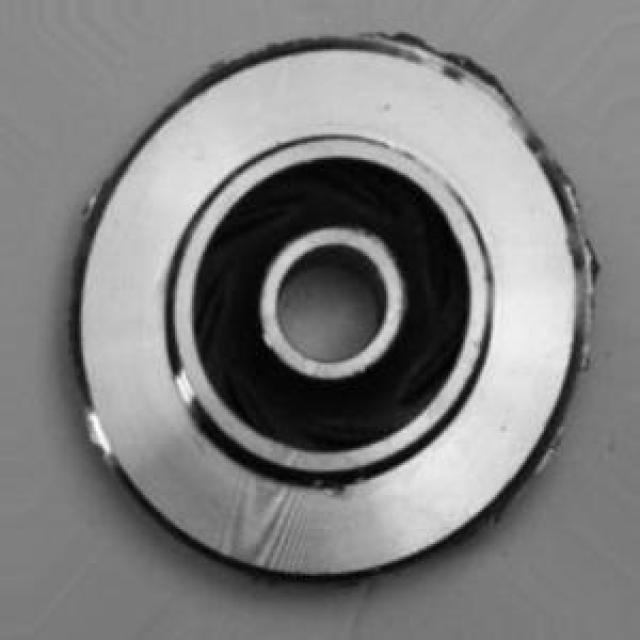Defect: (77, 402, 124, 462), (577, 239, 602, 302)
